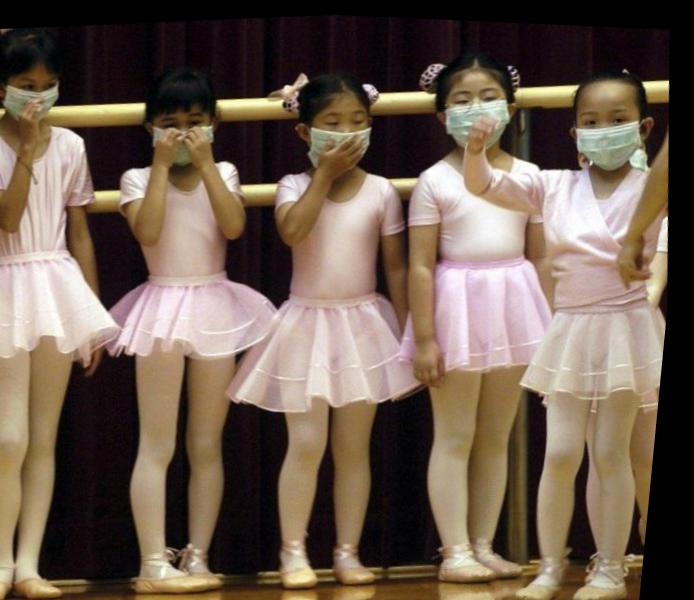OK: (571, 92, 648, 169), (444, 74, 518, 154), (150, 103, 220, 171), (1, 67, 62, 127)
WRONG: (305, 97, 378, 173)
